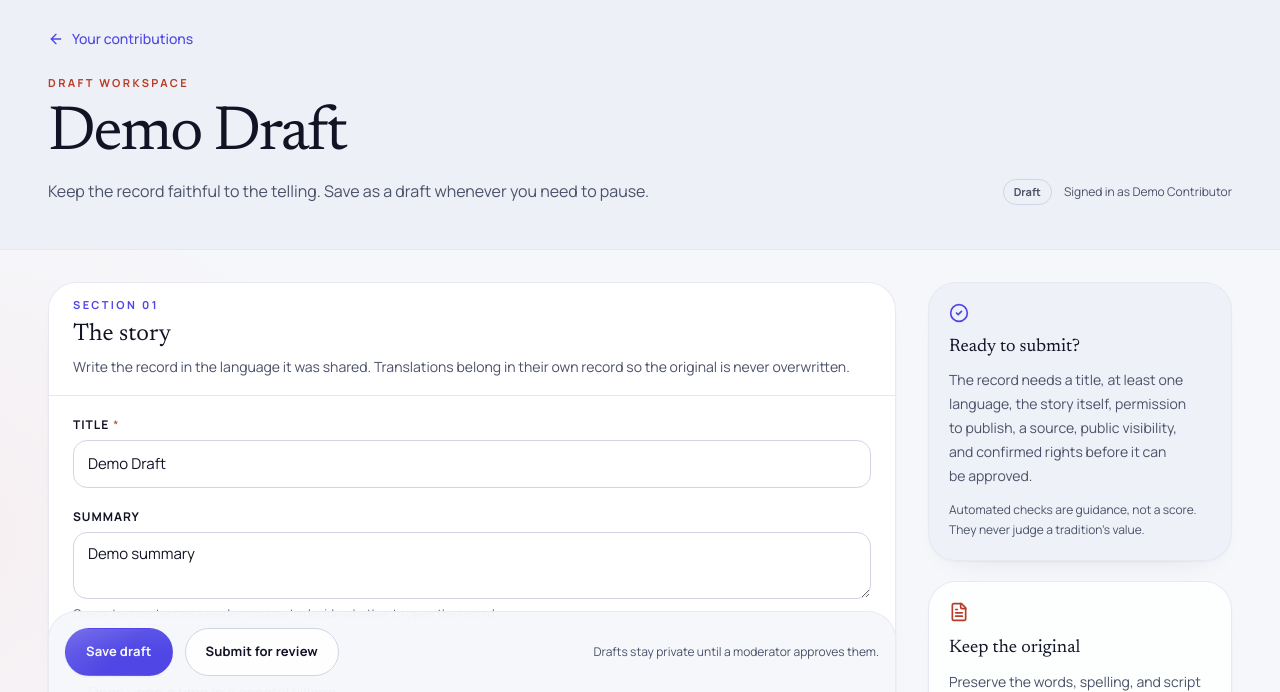
it: DraftEditorPage › surfaces submission requirements from a 422 on submit
The width and height of the screenshot is (1280, 692).
Click the button "Submit for review" at (262, 652), box [184, 628, 339, 676]
(page scrolled)
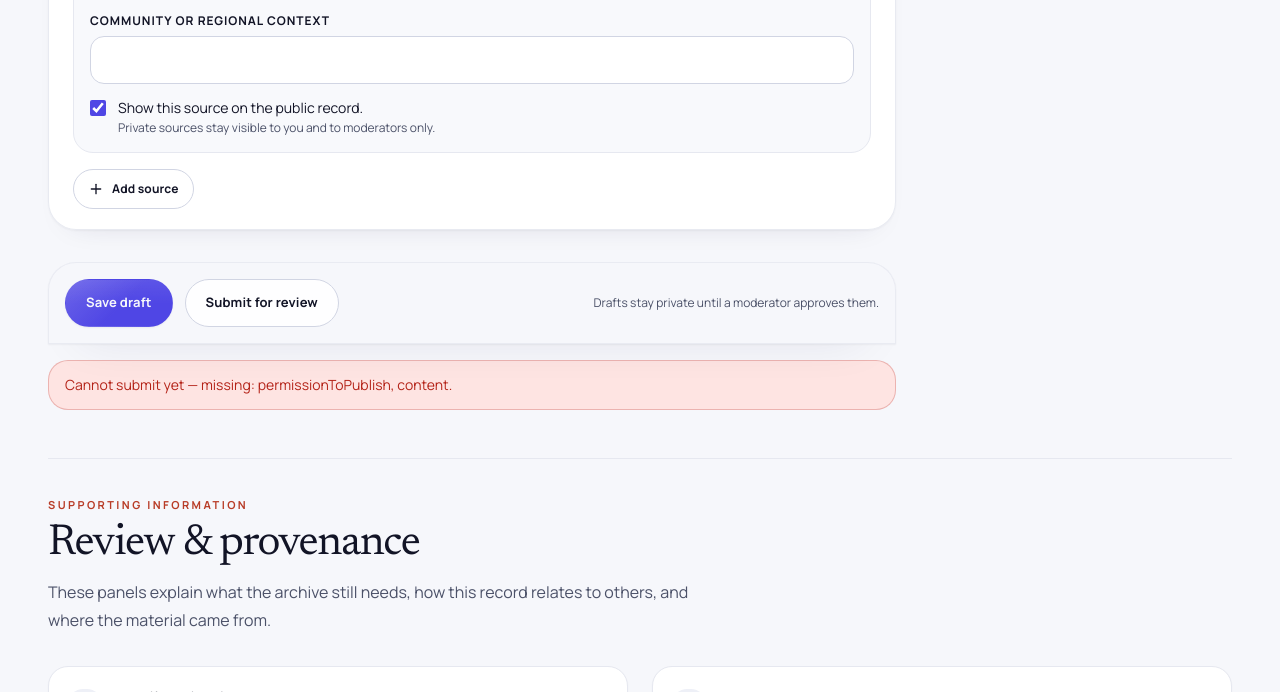
Expected: the message shows "permissionToPublish", [65, 375, 452, 394]
Expected: the message shows "content", [65, 375, 452, 394]
